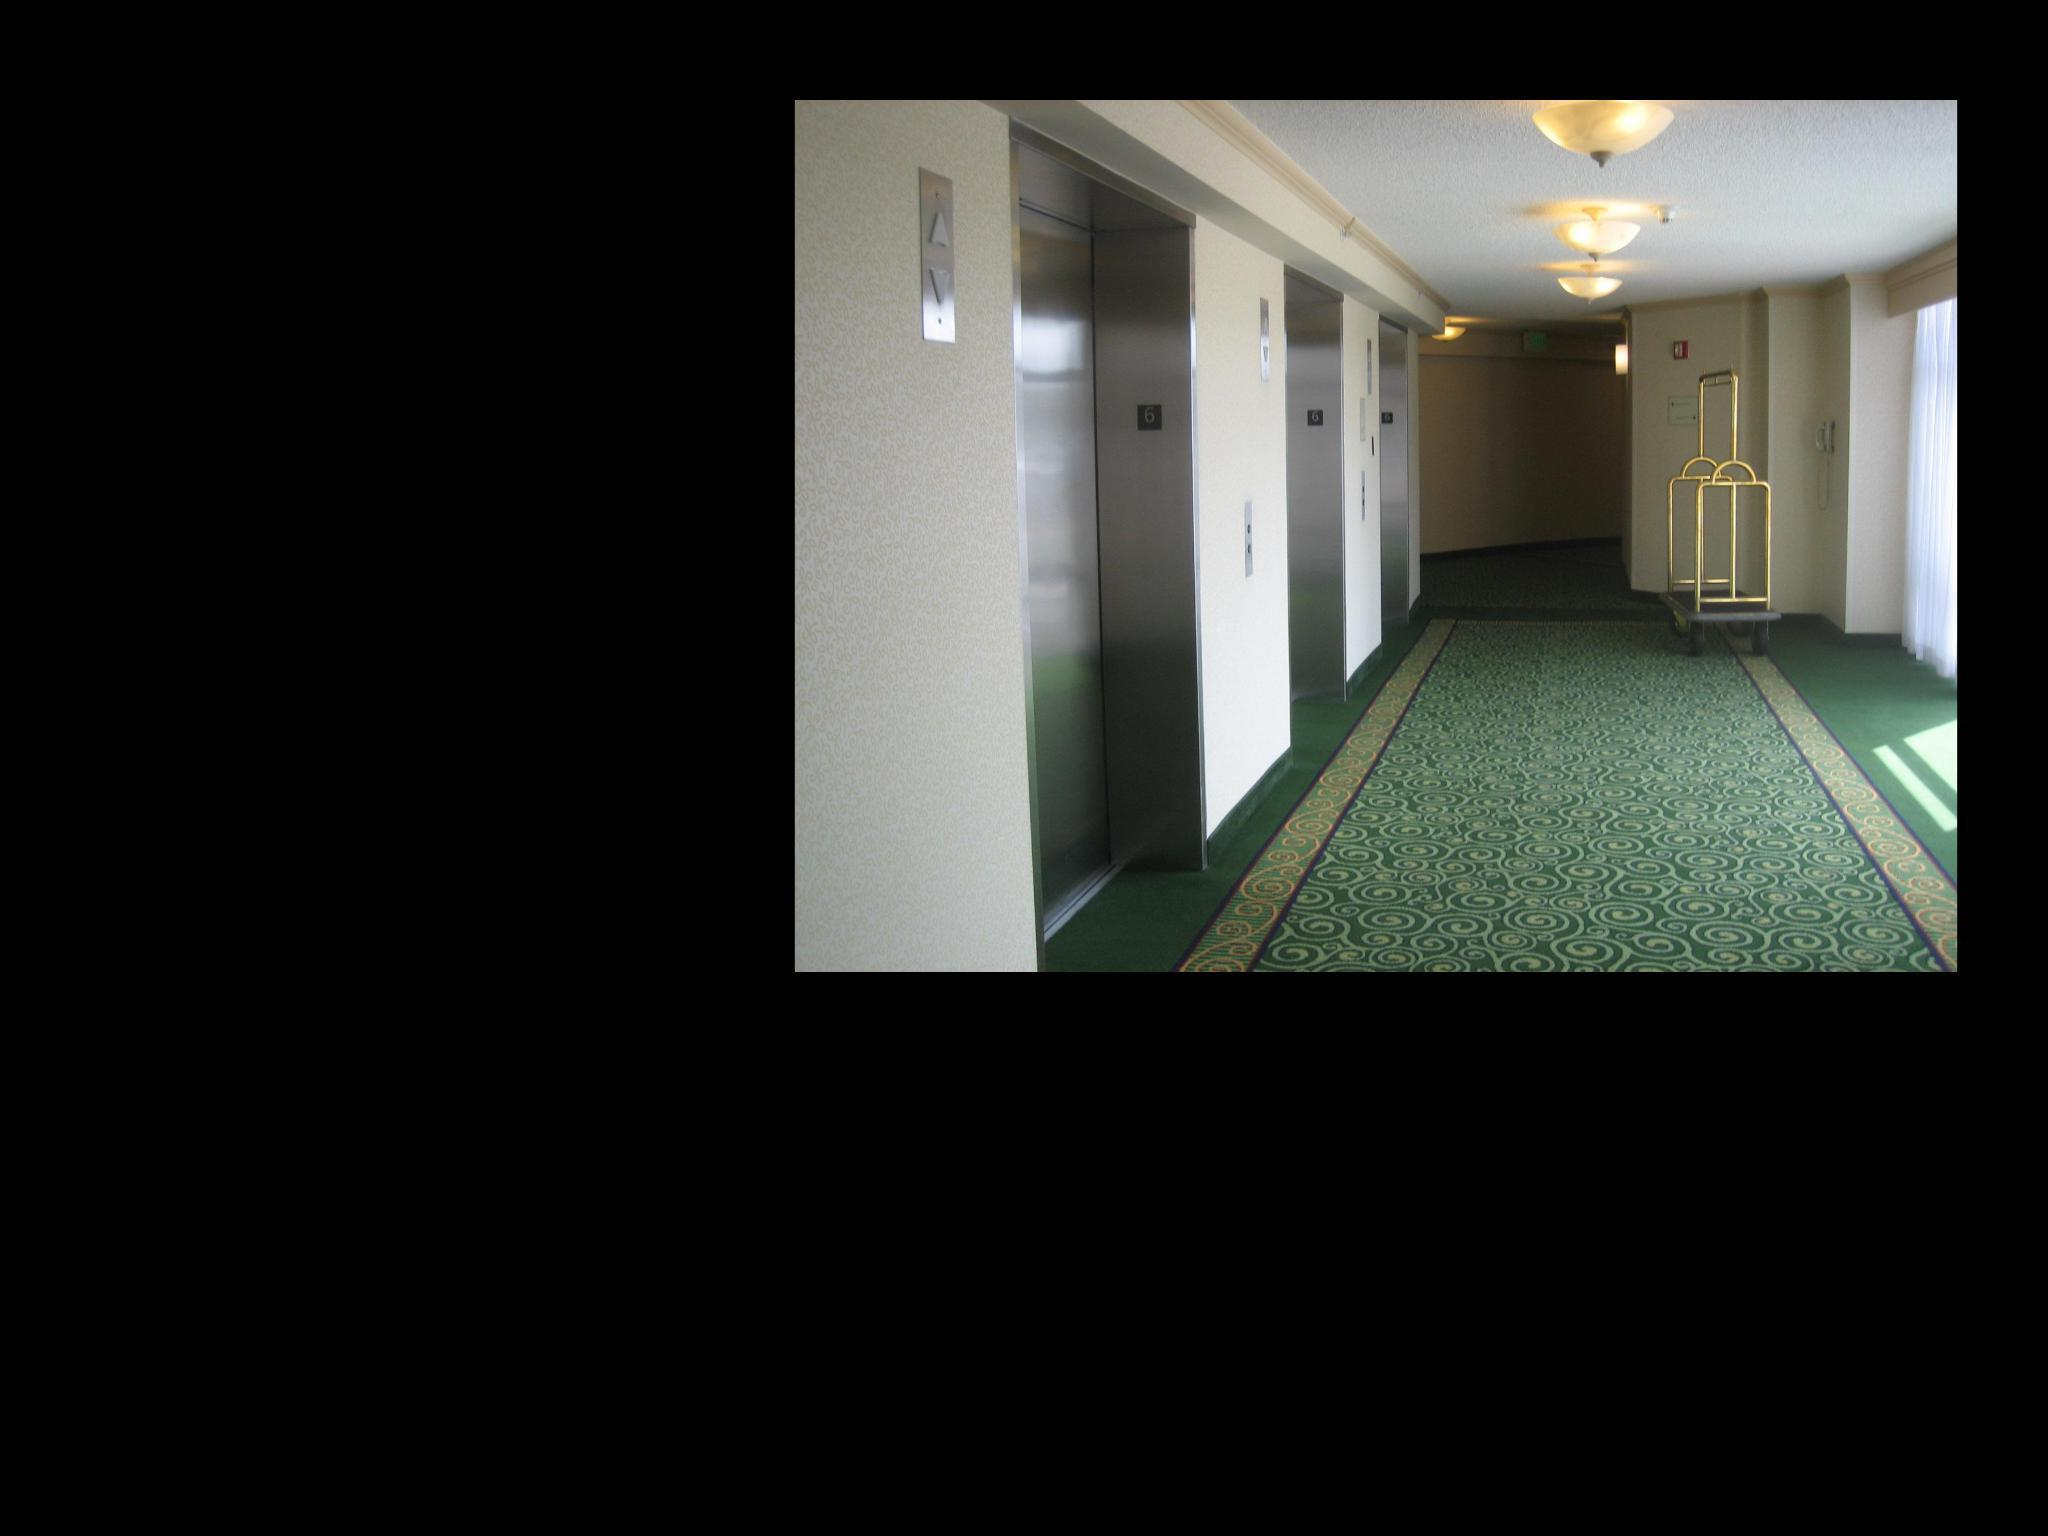Otro Obstaculo: (1661, 363, 1800, 665)
